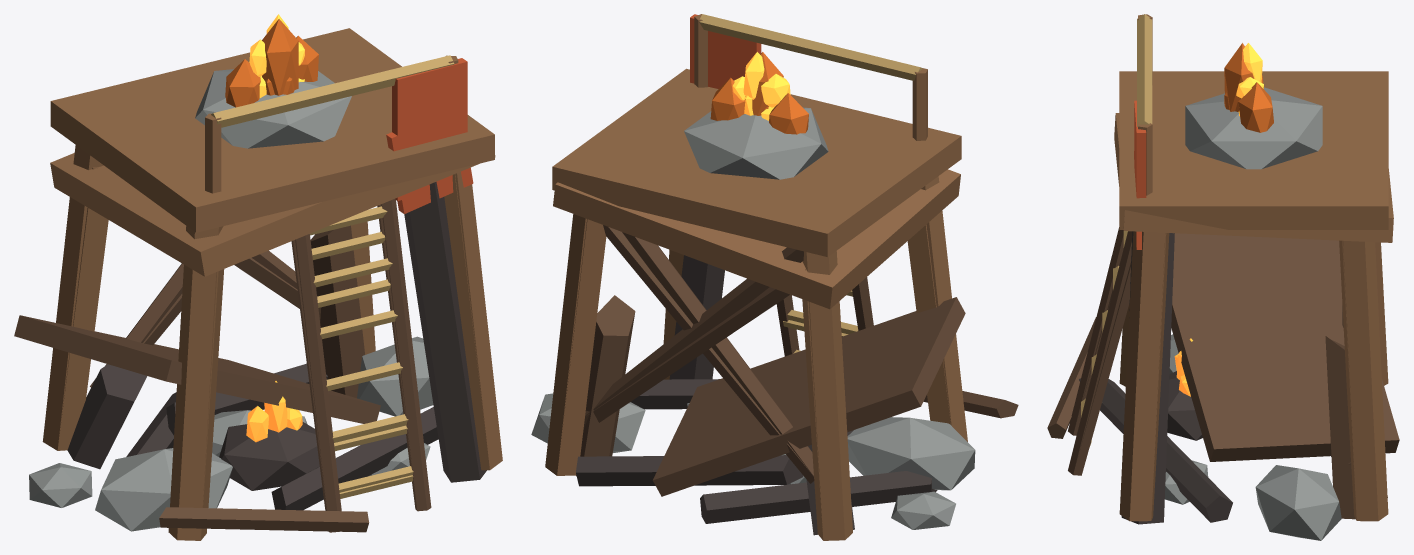
Rendered from watchtower_stages.glb.
3 views of the same model, side by side, from view 1: azimuth 30°, elevation 25°; view 2: azimuth 150°, elevation 25°; view 3: azimuth 270°, elevation 25° (orthographic). The views are drawn at different scales.
Parts seen in each view (by area): view 1: Stage_Intact, Stage_Damaged, Stage_Critical, Stage_Rubble, FlameMesh.002, FlameMesh; view 2: Stage_Intact, Stage_Damaged, Stage_Critical, Stage_Rubble, FlameMesh; view 3: Stage_Intact, Stage_Critical, Stage_Damaged, Stage_Rubble, FlameMesh.
Boxes of the visible parts, x1,y1,x2,y2 form: Stage_Intact: (29, 19, 502, 540); Stage_Damaged: (50, 77, 495, 540); Stage_Critical: (14, 182, 486, 490); Stage_Rubble: (126, 363, 438, 510); FlameMesh.002: (246, 381, 302, 442); FlameMesh: (249, 14, 304, 76); Stage_Intact: (531, 14, 975, 540); Stage_Damaged: (553, 45, 1018, 540); Stage_Critical: (576, 255, 965, 535); Stage_Rubble: (576, 379, 937, 523); FlameMesh: (732, 52, 790, 107); Stage_Intact: (1068, 14, 1388, 540); Stage_Critical: (1121, 231, 1399, 524); Stage_Damaged: (1047, 92, 1393, 520); Stage_Rubble: (1079, 378, 1387, 522); FlameMesh: (1236, 43, 1263, 98).
Size of what is drawn, in the model's own units: 3.23 by 3.26 by 2.45.
